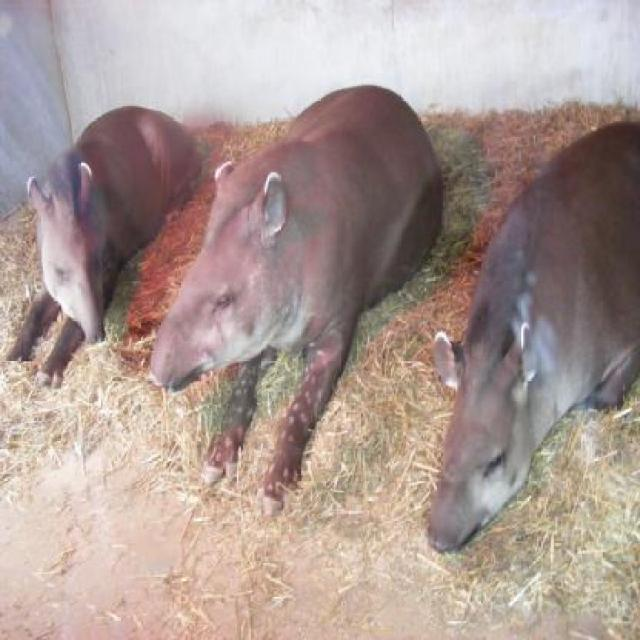pig: (148, 82, 444, 516), (425, 118, 639, 554), (8, 102, 204, 390)
